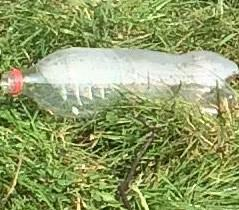Plastic: (0, 44, 239, 120)
